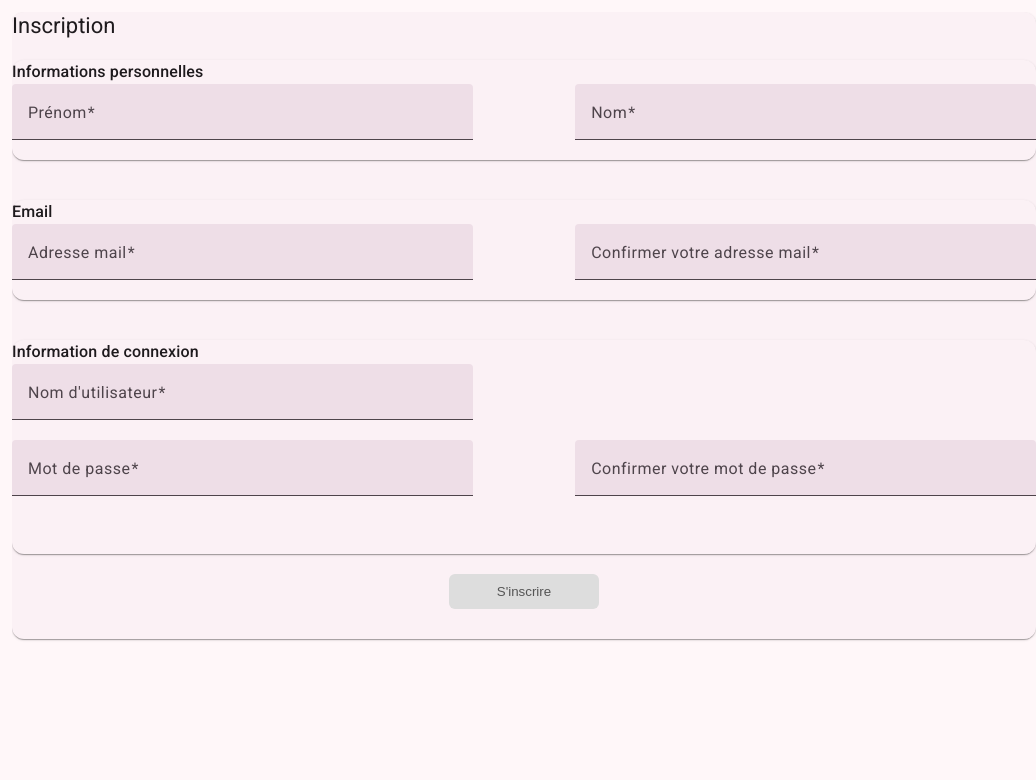
Test: Sign-InComponent › Formulaire d'inscription › le mot de passe doit être valide
The width and height of the screenshot is (1036, 780).
In the password field labelled "Mot de passe": (242, 476) [28,464,457,488], type "bla"
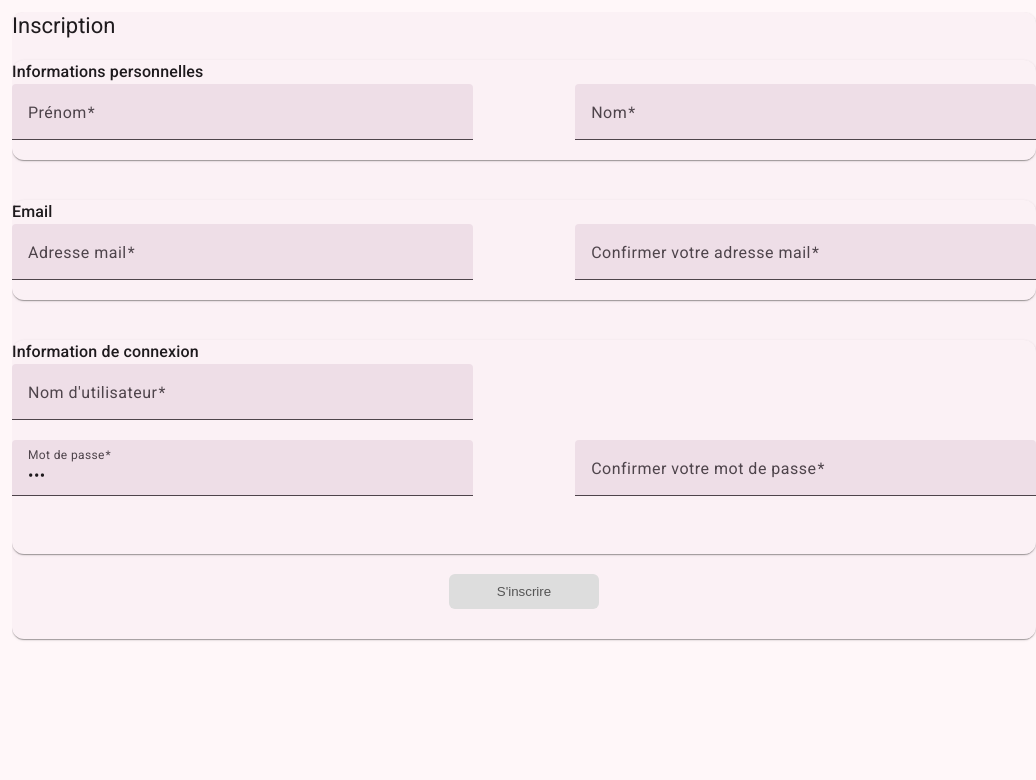
Leave the password field labelled "Mot de passe", box [28,464,457,488]
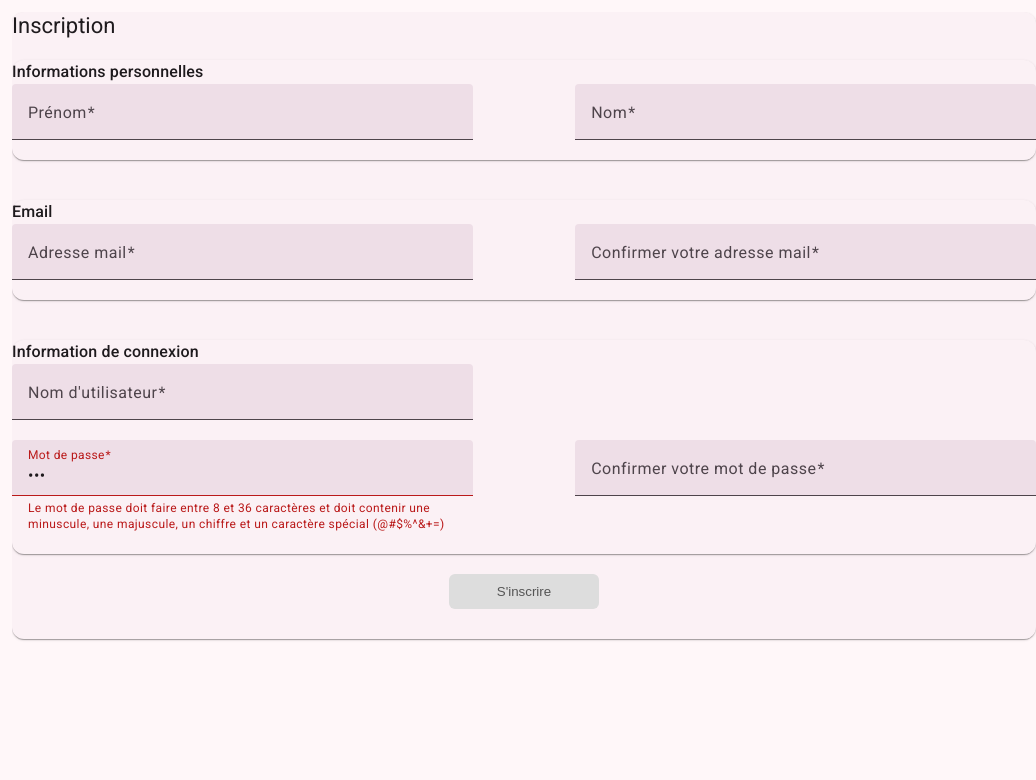
expect the text "Le mot de passe doit faire entre 8 et 36 caractères et doit contenir une minuscule, une majuscule, un chiffre et un cara" is shown: met, box [28,501,445,531]
